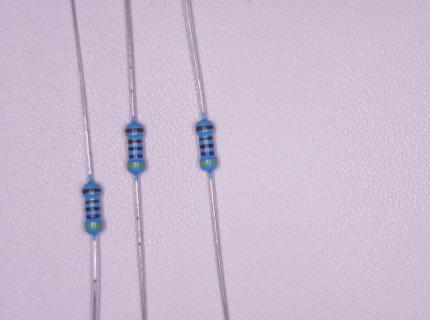Black band: (200, 143, 214, 149), (85, 207, 100, 211), (128, 147, 143, 151)
Brown band: (82, 188, 101, 194), (196, 125, 214, 131), (125, 128, 144, 133), (128, 139, 143, 144), (85, 199, 100, 204), (199, 136, 213, 141)
Violet band: (201, 151, 215, 156), (87, 214, 100, 219), (129, 154, 143, 158)
Yellow band: (85, 223, 103, 229), (199, 161, 217, 166), (128, 164, 146, 168)
